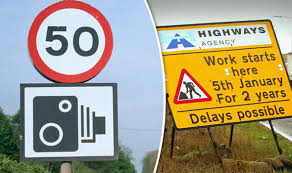Speed_limit_50km: (27, 2, 114, 82)
